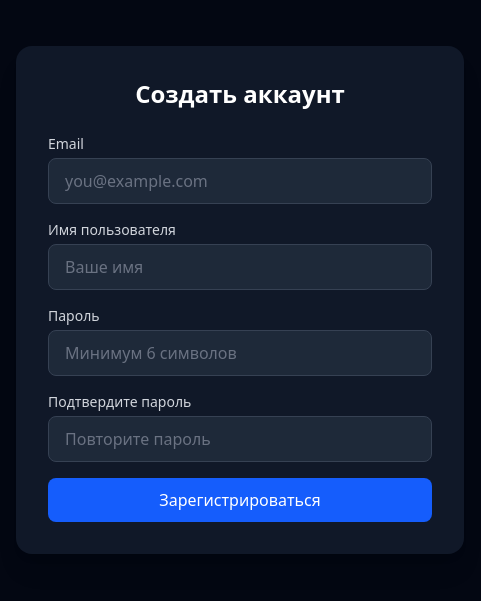
Test: RegisterForm › shows error for short password
In the field labelled "Email": (240, 181) [48,158,432,204], type "test@test.com"
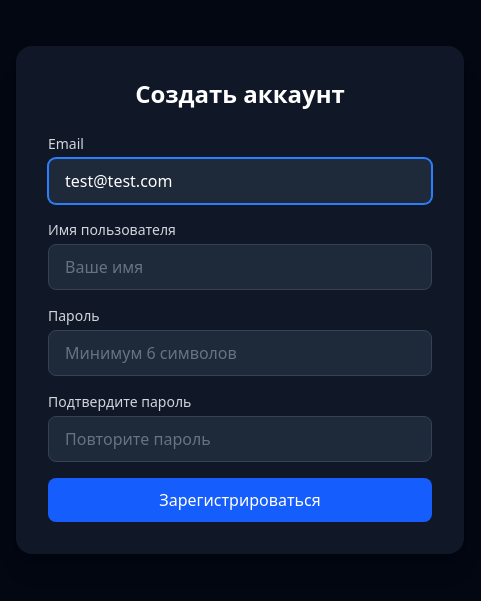
In the field labelled "Имя пользователя": (240, 267) [48,244,432,290], type "Test"
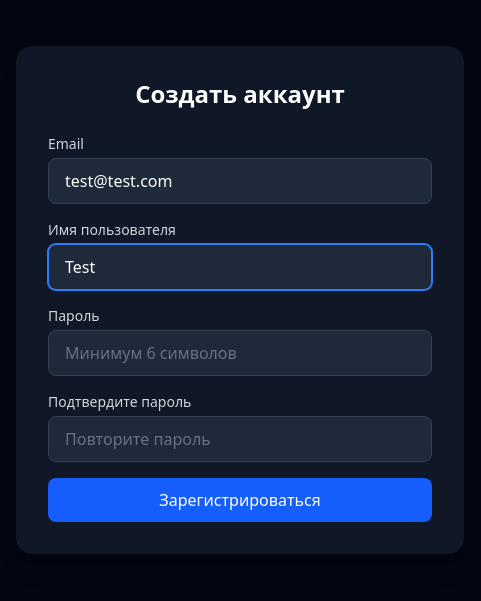
In the password field labelled "Пароль": (240, 353) [48,330,432,376], type "12345"
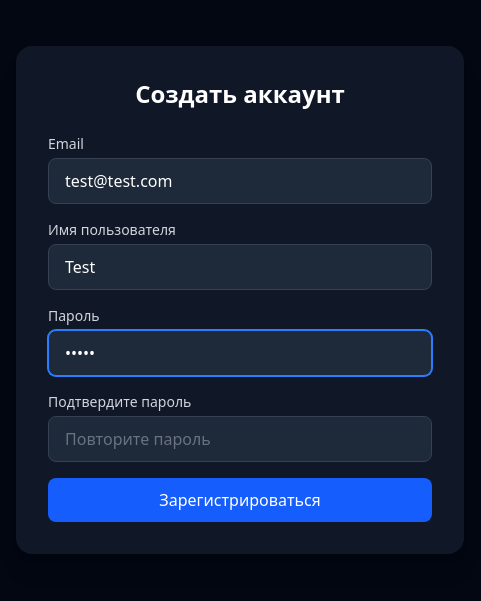
In the password field labelled "Подтвердите пароль": (240, 439) [48,416,432,462], type "12345"
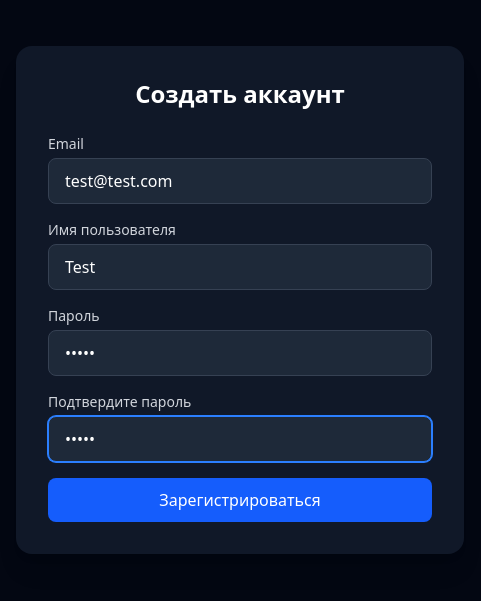
Click the button "Зарегистрироваться": click(240, 500) [48,478,432,522]
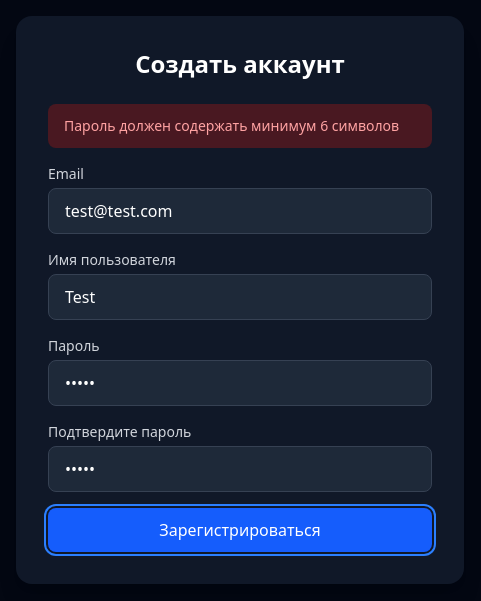
Now the message reads "Пароль должен содержать минимум 6 символов", box [64,116,399,135]
